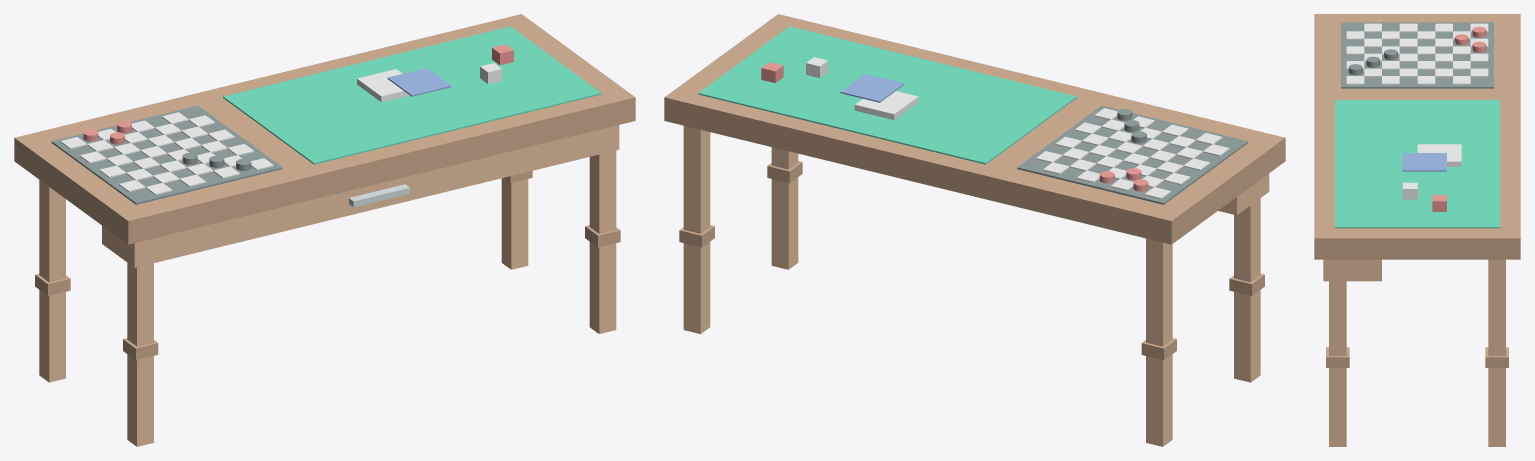
Rendered from boardGameTable.glb.
3 views of the same model, side by side, from view 1: azimuth 30°, elevation 25°; view 2: azimuth 150°, elevation 25°; view 3: azimuth 270°, elevation 25° (orthographic). The views are drawn at different scales.
Visible parts, largest first — view 1: boardGameTable; view 2: boardGameTable; view 3: boardGameTable.
Part boxes in pixels (x1=…): boardGameTable: x1=14, y1=14, x2=635, y2=446; boardGameTable: x1=664, y1=14, x2=1285, y2=446; boardGameTable: x1=1314, y1=14, x2=1520, y2=446.
Bounding box in the file's own units: 0.9 × 0.4225 × 0.35.
